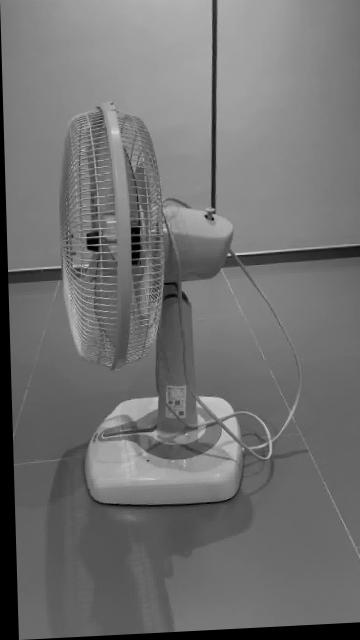Fan: (58, 104, 245, 510)
